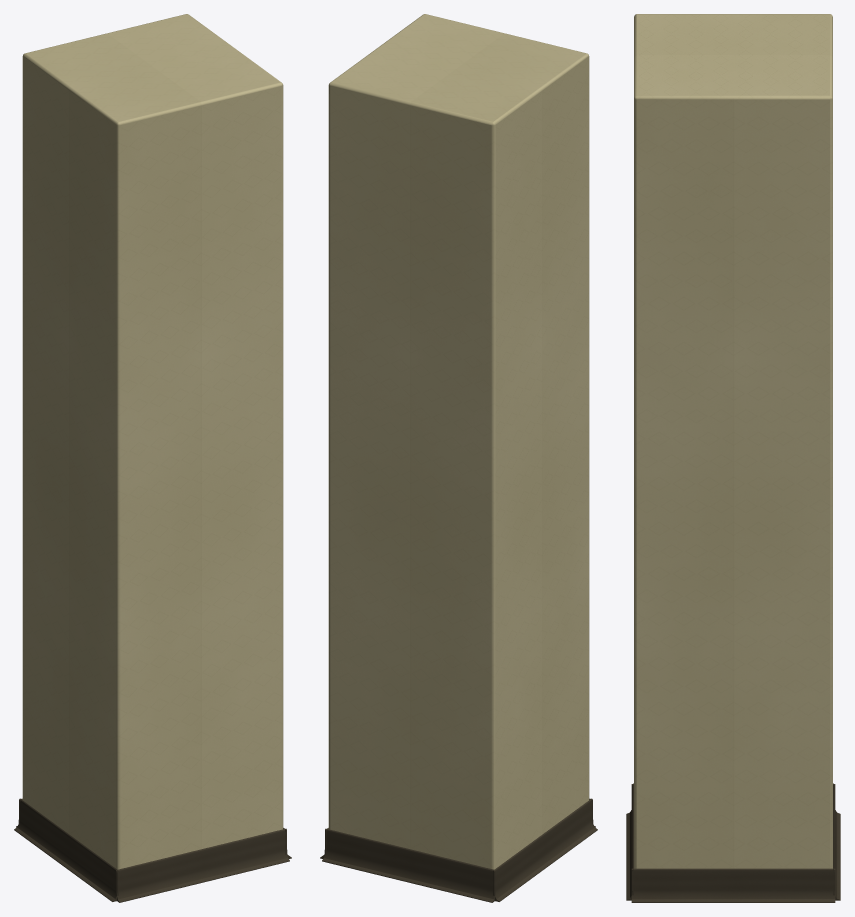
File: column_061.gltf
The picture shows the model from 3 angles, left to right: view 1: azimuth 30°, elevation 25°; view 2: azimuth 150°, elevation 25°; view 3: azimuth 270°, elevation 25°; orthographic projection. The views are drawn at different scales.
Visible parts, largest first — view 1: column_061; view 2: column_061; view 3: column_061.
Boxes of the visible parts, x1,y1,x2,y2 form: column_061: [14, 14, 291, 902]; column_061: [320, 14, 597, 902]; column_061: [626, 14, 840, 902].
Bounding box in the file's own units: 0.658 × 2.72 × 0.658.
2 materials, 2 textured.
